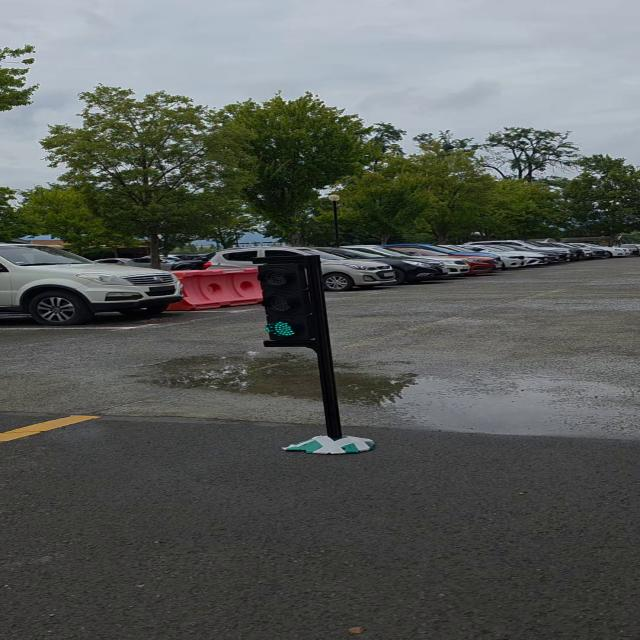green: (256, 254, 332, 348)
